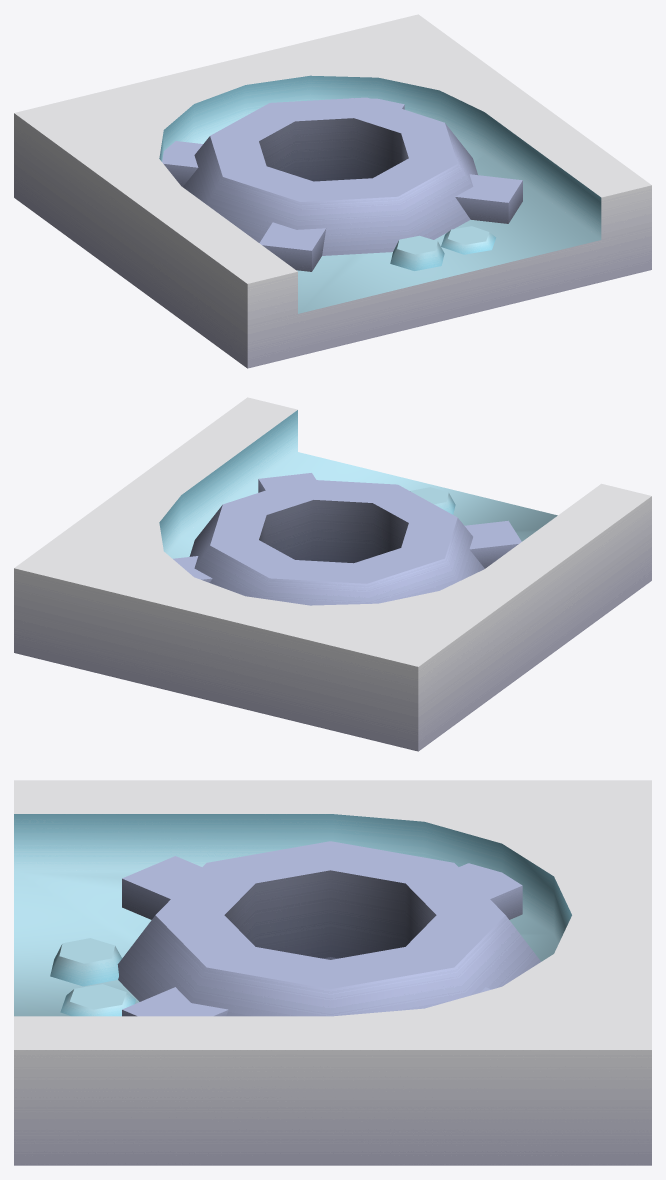
Rendered from tower-defense-kit--snow-tile-spawn-end-round.glb.
The picture shows the model from 3 angles, top to bottom: view 1: azimuth 30°, elevation 25°; view 2: azimuth 150°, elevation 25°; view 3: azimuth 270°, elevation 25°; orthographic projection. The views are drawn at different scales.
Parts seen in each view (by area): view 1: snow-tile-spawn-end-round; view 2: snow-tile-spawn-end-round; view 3: snow-tile-spawn-end-round.
Boxes of the visible parts, bbox=[...] form: snow-tile-spawn-end-round: bbox=[14, 14, 651, 368]; snow-tile-spawn-end-round: bbox=[14, 397, 651, 751]; snow-tile-spawn-end-round: bbox=[14, 780, 651, 1165].
Bounding box in the file's own units: 1 × 0.2 × 1.
1 material, 1 textured.
